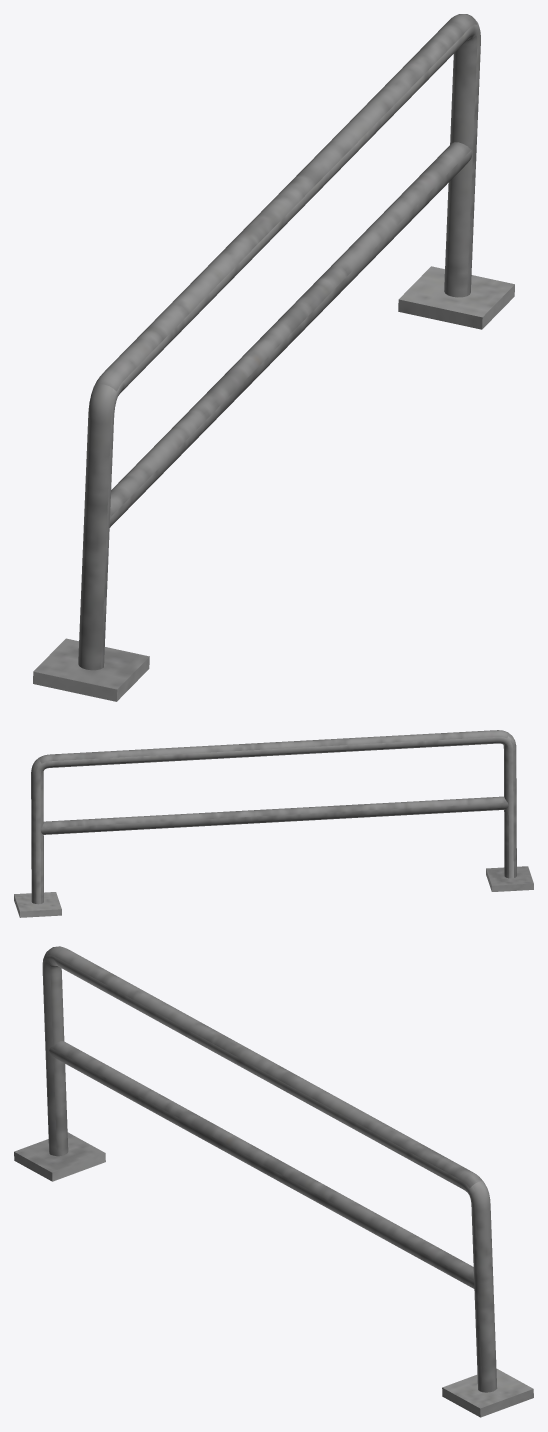
Rendered from RailGuard.fbx.
3 views of the same model, one above another, from view 1: azimuth 30°, elevation 25°; view 2: azimuth 150°, elevation 25°; view 3: azimuth 270°, elevation 25° (orthographic). The views are drawn at different scales.
Parts seen in each view (by area): view 1: RailGuard; view 2: RailGuard; view 3: RailGuard.
Part boxes in pixels (x1=…): RailGuard: x1=33, y1=14, x2=514, y2=701; RailGuard: x1=14, y1=730, x2=533, y2=917; RailGuard: x1=14, y1=946, x2=533, y2=1417.
Size of the model in its own units: 231 by 87.19 by 184.
